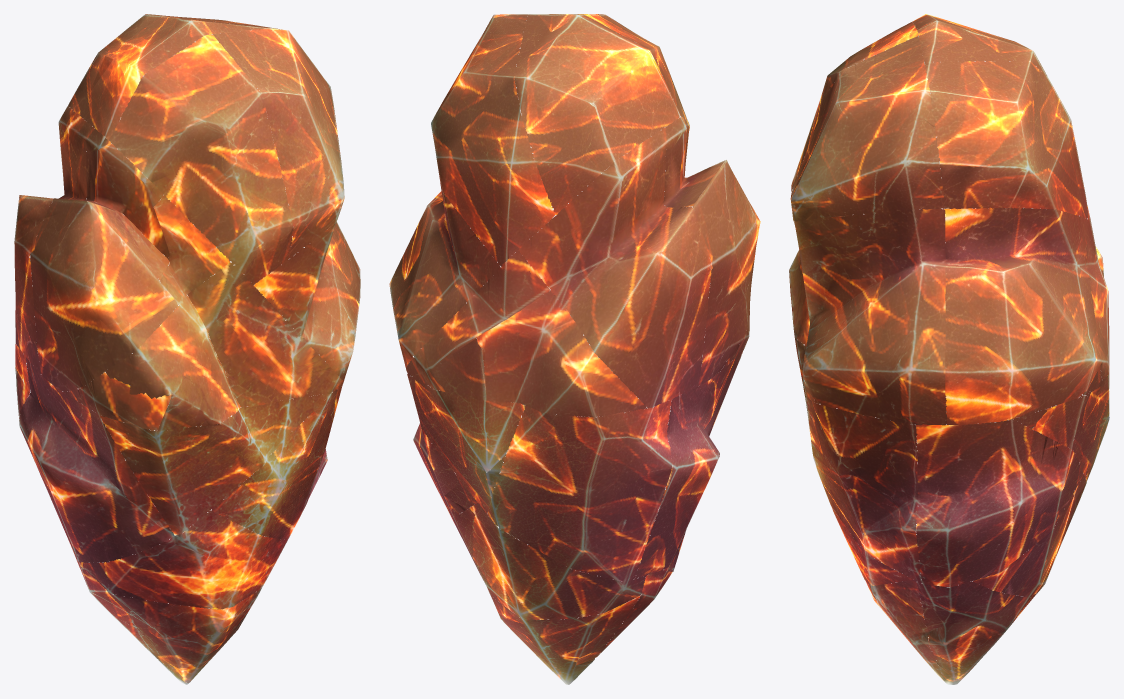
The model's file is orange_low_poly_gem.glb.
3 renders of one model, left to right at view 1: azimuth 30°, elevation 25°; view 2: azimuth 150°, elevation 25°; view 3: azimuth 270°, elevation 25°, orthographic.
Parts seen in each view (by area): view 1: tripo_node_8ff26cc1-4b0e-4af4-8a03-e76fcd792949; view 2: tripo_node_8ff26cc1-4b0e-4af4-8a03-e76fcd792949; view 3: tripo_node_8ff26cc1-4b0e-4af4-8a03-e76fcd792949.
Part boxes in pixels (<box>): tripo_node_8ff26cc1-4b0e-4af4-8a03-e76fcd792949: <box>14,14,360,684</box>; tripo_node_8ff26cc1-4b0e-4af4-8a03-e76fcd792949: <box>389,14,760,684</box>; tripo_node_8ff26cc1-4b0e-4af4-8a03-e76fcd792949: <box>789,14,1109,684</box>.
Bounding box in the file's own units: 0.4839 × 1 × 0.4387.
1 material, 1 textured.
